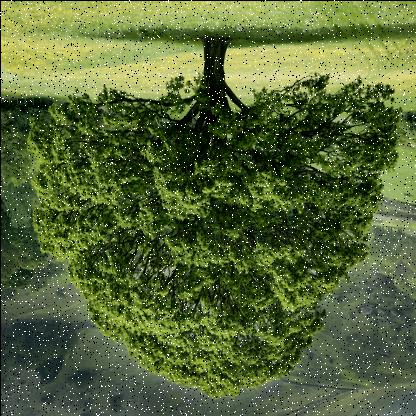Tree: (26, 37, 400, 401), (0, 154, 57, 302), (1, 104, 65, 229), (0, 98, 73, 188), (3, 318, 76, 387), (370, 226, 408, 274), (392, 231, 416, 294), (388, 108, 416, 154), (372, 222, 390, 274), (70, 371, 93, 391), (107, 396, 123, 414)
